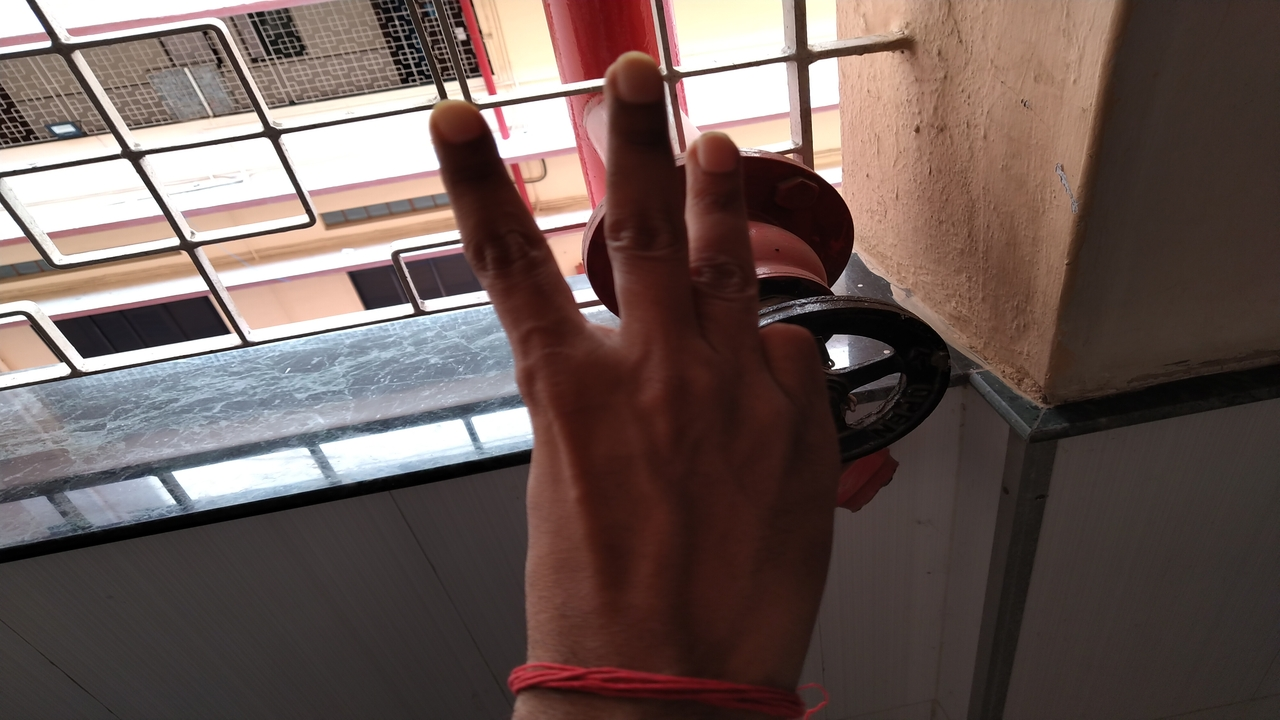fingertip: (422, 96, 490, 158), (600, 50, 662, 114), (688, 126, 744, 178)
